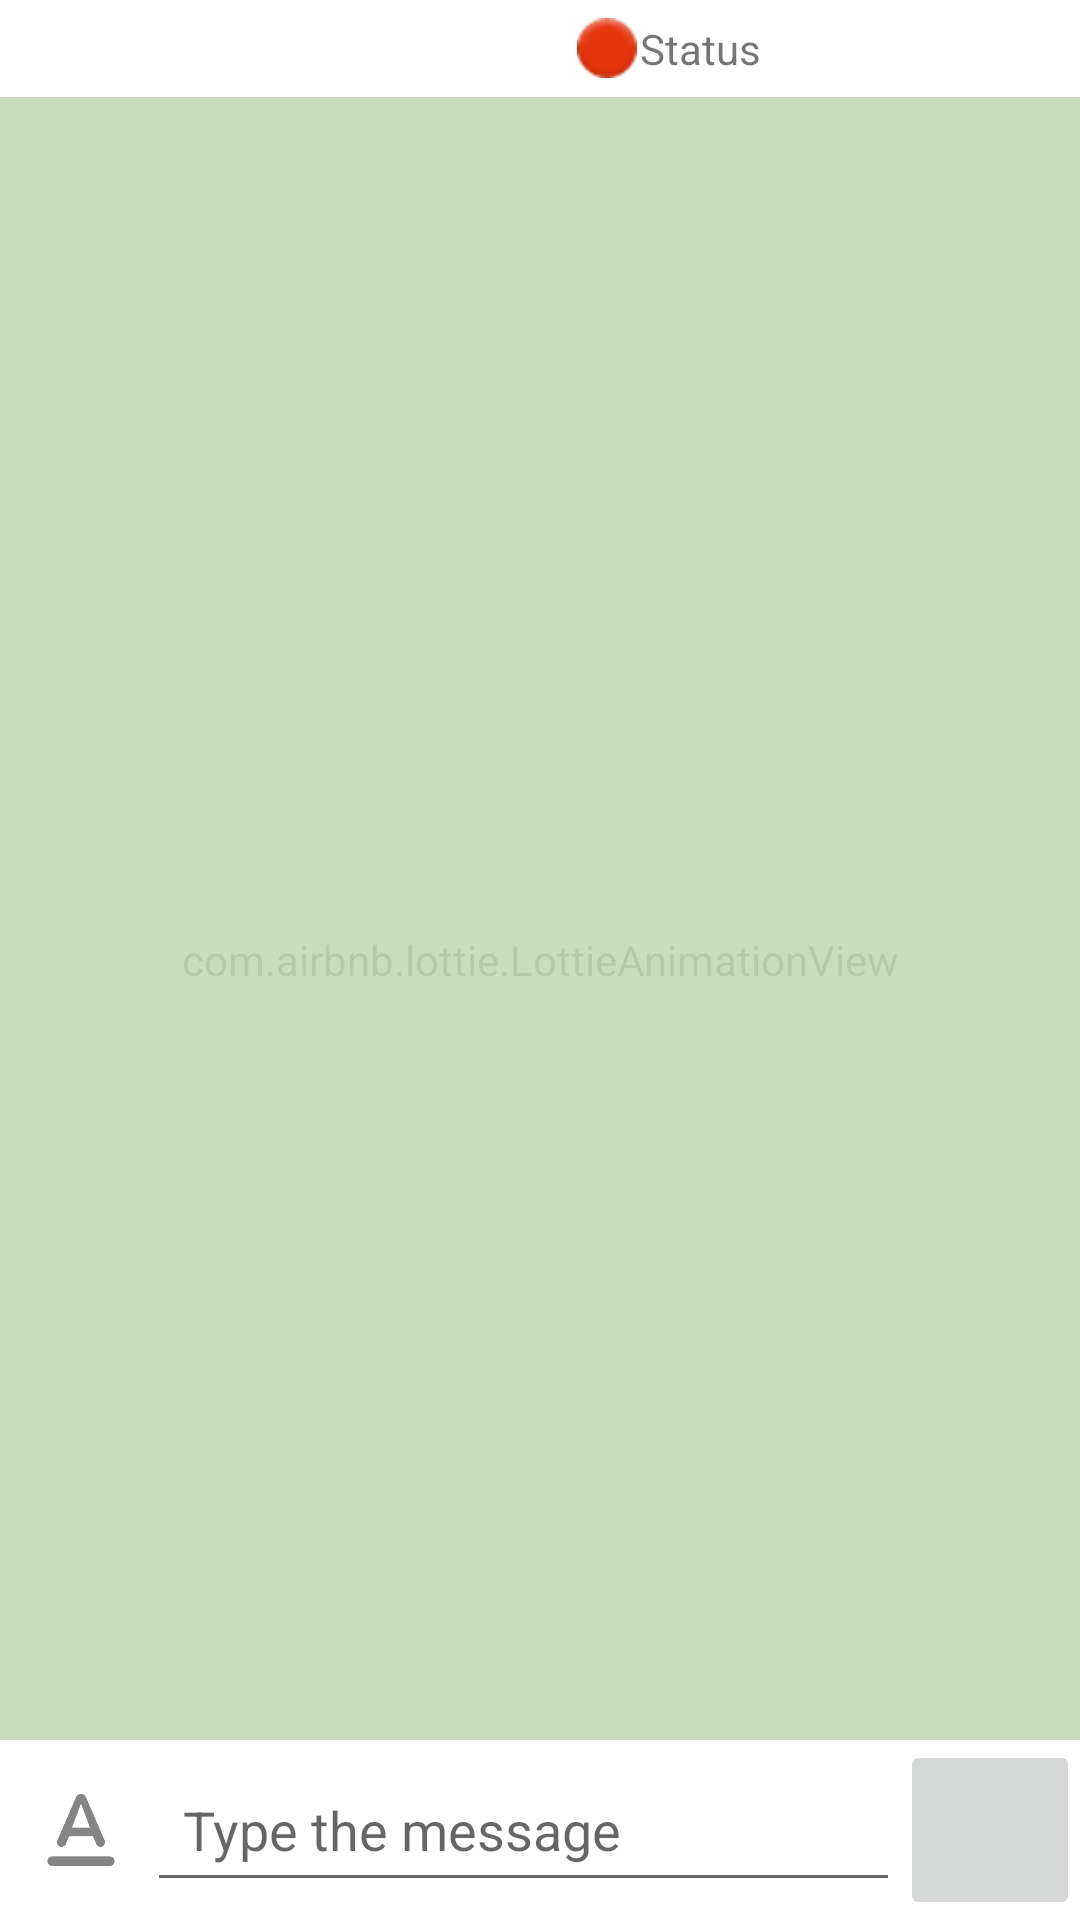

Screen size 1080x1920. Icon name, then its center in pixels as (x=x, y=y):
fontformat: (x=81, y=1830)
